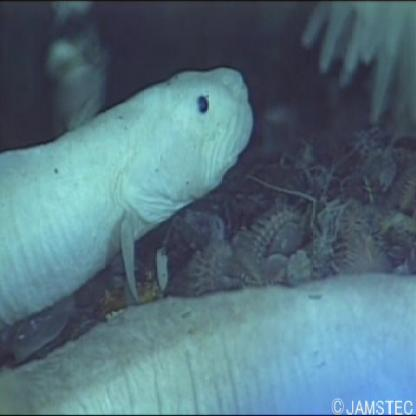Bio: (1, 58, 259, 335)
